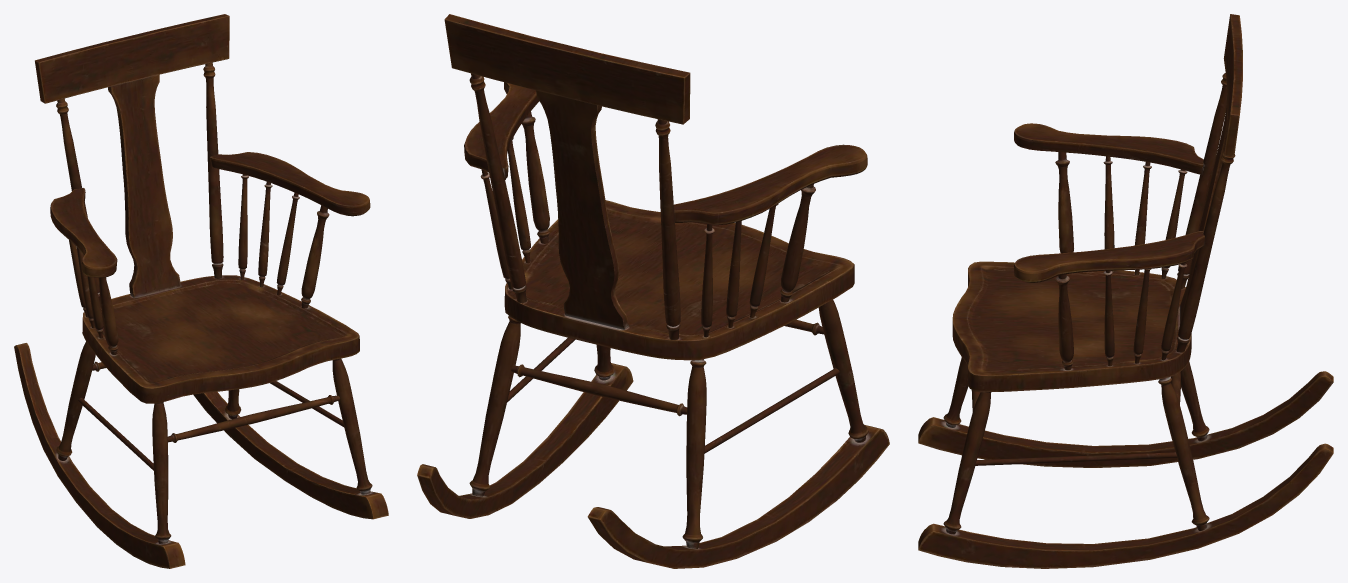
Rendered from goth_chair.glb.
3 views of the same model, side by side, from view 1: azimuth 30°, elevation 25°; view 2: azimuth 150°, elevation 25°; view 3: azimuth 270°, elevation 25° (orthographic). The views are drawn at different scales.
Parts seen in each view (by area): view 1: Rockingchair_01; view 2: Rockingchair_01; view 3: Rockingchair_01.
Part boxes in pixels (x1,y1,x2,y2): Rockingchair_01: [14, 14, 388, 568]; Rockingchair_01: [417, 14, 889, 568]; Rockingchair_01: [918, 14, 1333, 568].
Bounding box in the file's own units: 0.7081 × 0.9949 × 0.8335.
Materials: 1 (1 with a texture image).
